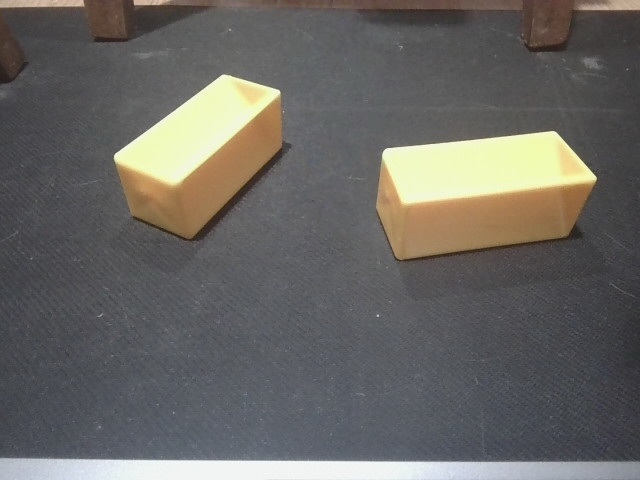YellowSample: (372, 129, 600, 262), (109, 70, 286, 241)
